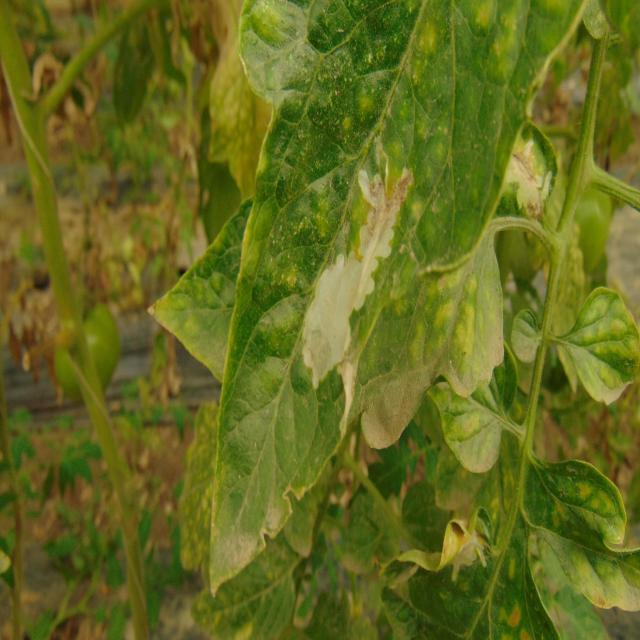Tuta absoluta: (279, 152, 430, 416)
